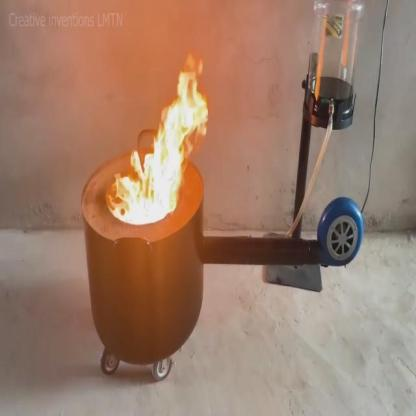Fire: (102, 60, 210, 230)
